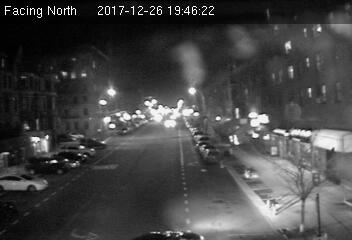car: (203, 147, 221, 164)
